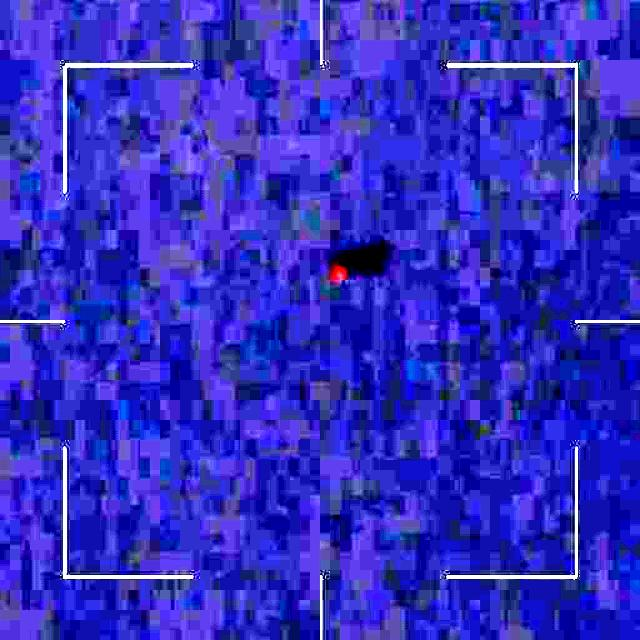bird: (319, 249, 359, 298)
